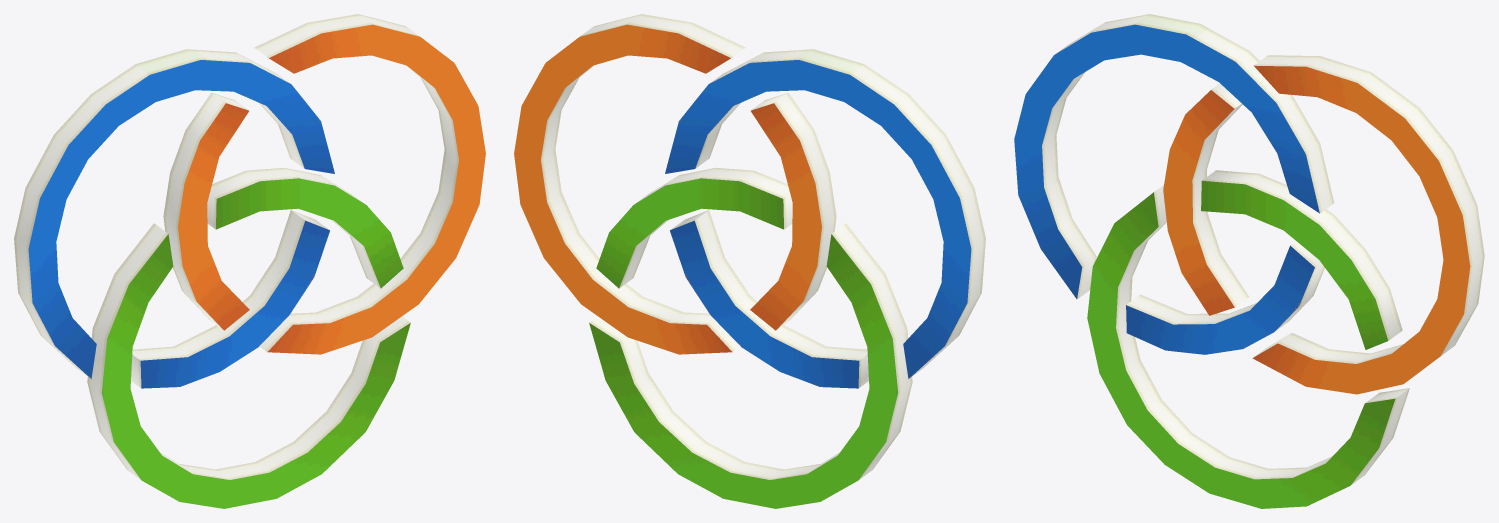
Rendered from ps2_save-icons_remember11-revisionrelease.glb.
The picture shows the model from 3 angles, left to right: view 1: azimuth 30°, elevation 25°; view 2: azimuth 150°, elevation 25°; view 3: azimuth 330°, elevation 25°; orthographic projection.
Visible parts, largest first — view 1: icon.ico; view 2: icon.ico; view 3: icon.ico.
Boxes of the visible parts, x1=… form: icon.ico: x1=14, y1=14, x2=485, y2=508; icon.ico: x1=514, y1=14, x2=985, y2=508; icon.ico: x1=1014, y1=14, x2=1484, y2=508.
Size of the model in its own units: 4.59 by 4.38 by 0.2517.
1 material, 1 textured.
